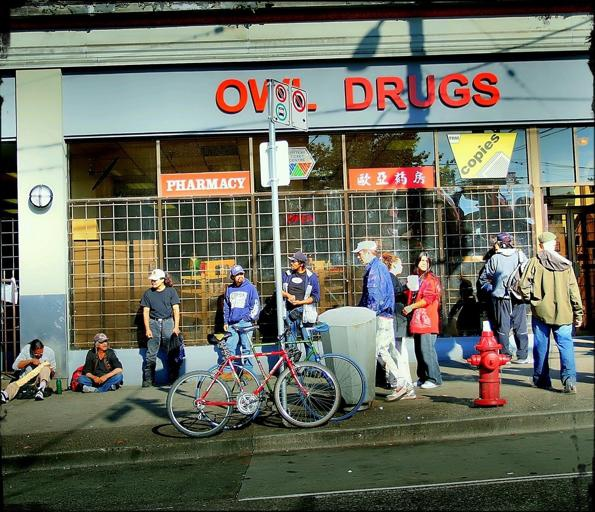non-vehicle: (192, 308, 370, 430), (166, 320, 341, 432)
